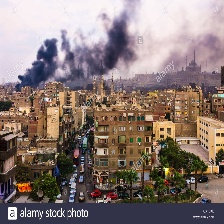smoke: (12, 2, 224, 91)
